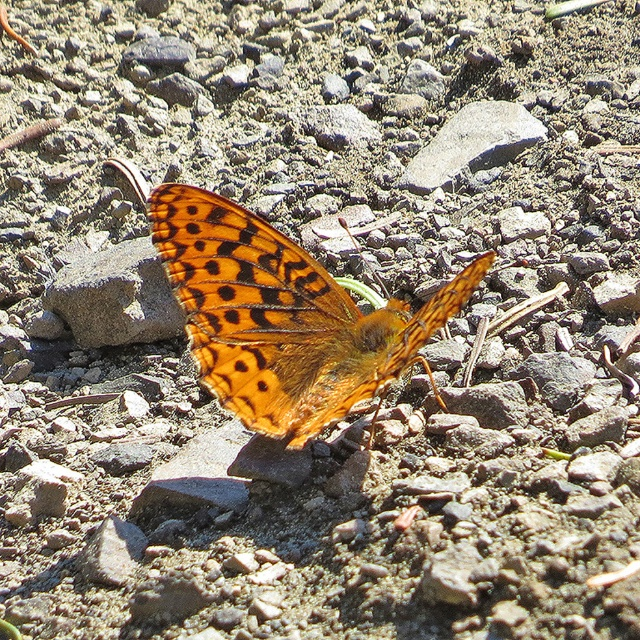Butterfly: (121, 158, 497, 458)
